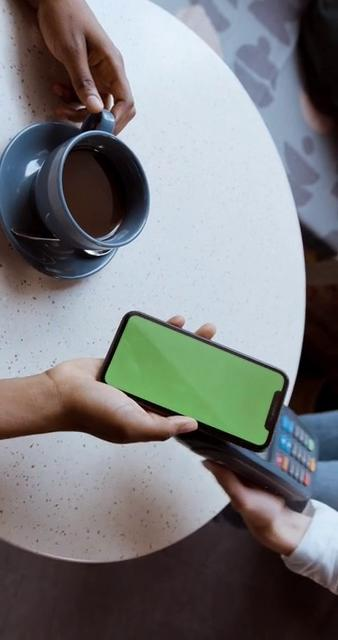phone: (94, 304, 292, 455)
